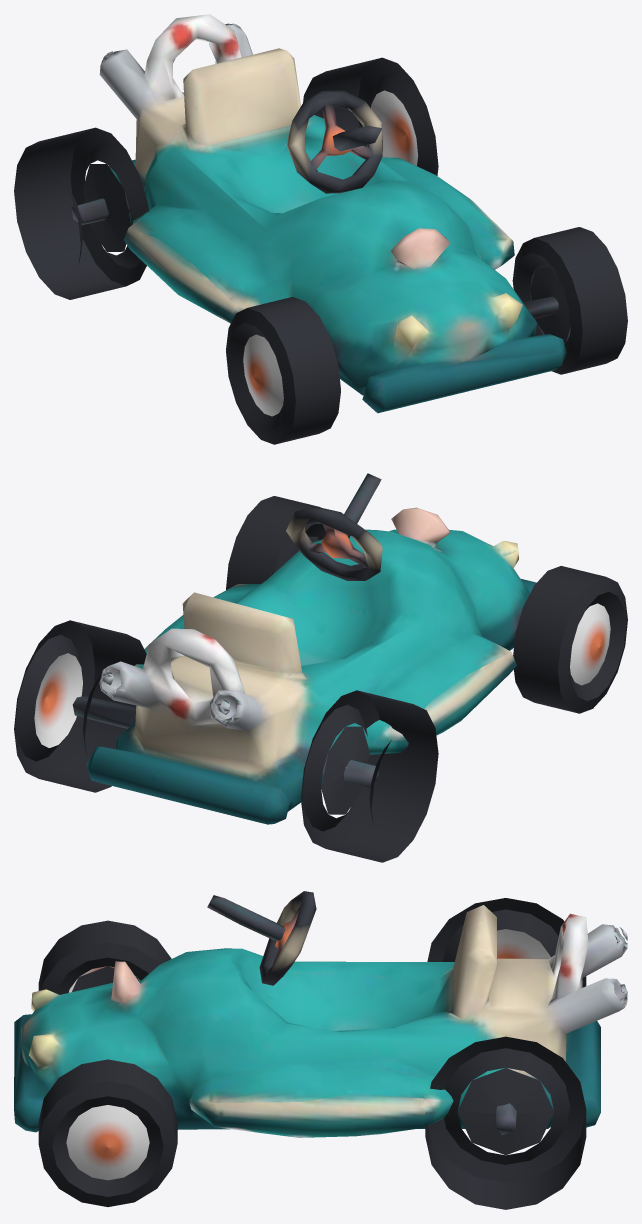
The model's file is kart.otter.lod1.glb.
3 renders of one model, top to bottom at view 1: azimuth 30°, elevation 25°; view 2: azimuth 150°, elevation 25°; view 3: azimuth 270°, elevation 25°, orthographic.
Parts seen in each view (by area): view 1: body, wheel_rr, wheel_fr, wheel_fl, wheel_rl, steering; view 2: body, wheel_rr, wheel_rl, wheel_fr, wheel_fl, steering; view 3: body, wheel_rl, wheel_fl, wheel_fr, wheel_rr, steering.
Part boxes in pixels (box(x1,y1,x2,y2)): body: box(71, 14, 566, 413); wheel_rr: box(14, 127, 149, 299); wheel_fr: box(226, 297, 340, 444); wheel_fl: box(512, 227, 627, 374); wheel_rl: box(303, 57, 438, 175); steering: box(286, 90, 382, 193); body: box(72, 473, 536, 824); wheel_rr: box(301, 690, 438, 862); wheel_rl: box(14, 620, 146, 792); wheel_fr: box(513, 566, 627, 713); wheel_fl: box(226, 496, 326, 590); steering: box(286, 507, 382, 580); body: box(14, 895, 627, 1137); wheel_rl: box(425, 1036, 586, 1209); wheel_fl: box(38, 1059, 177, 1206); wheel_fr: box(38, 920, 171, 994); wheel_rr: box(427, 898, 586, 987); steering: box(259, 891, 316, 985).
Bounding box in the file's own units: 1.31 × 0.8066 × 1.94.
3 materials, 1 textured.
